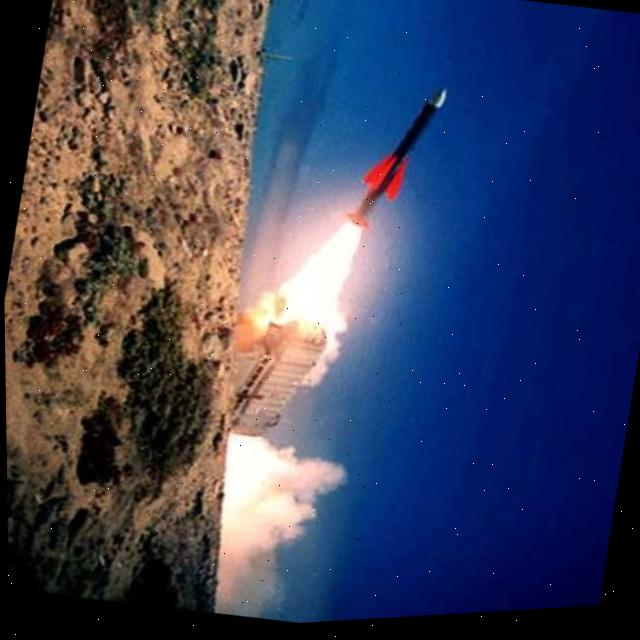missile: (336, 77, 456, 246)
